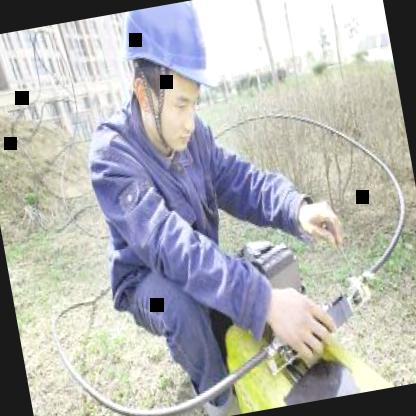helmet: (105, 0, 238, 166)
